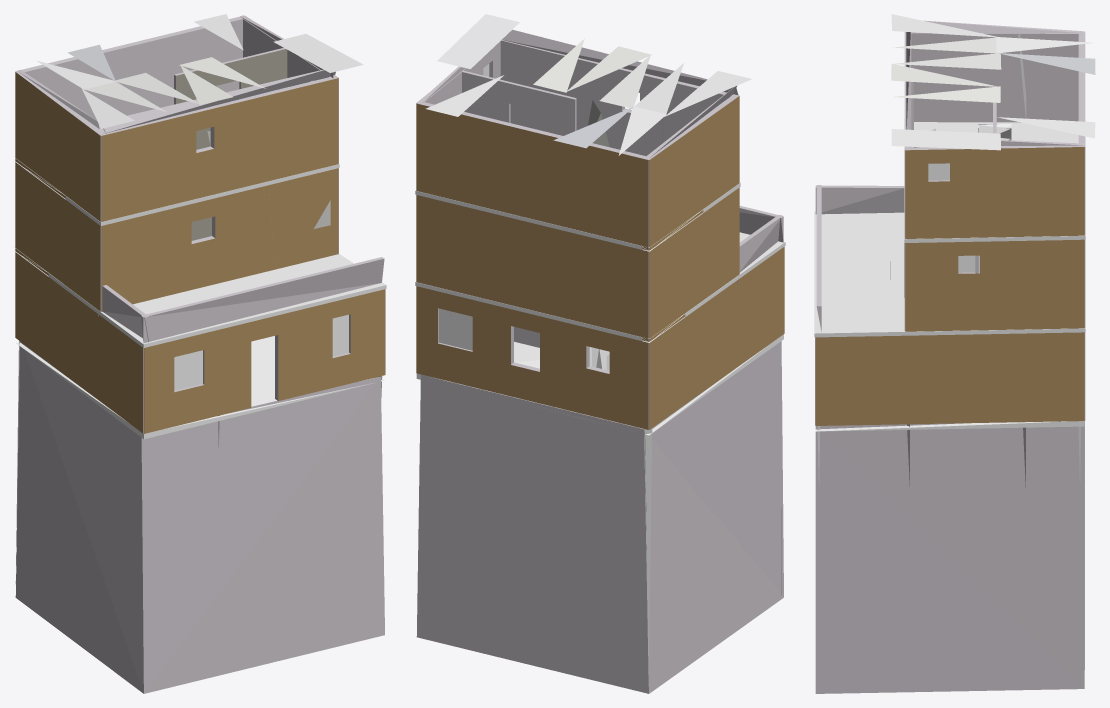
3 renders of one model, left to right at view 1: azimuth 30°, elevation 25°; view 2: azimuth 150°, elevation 25°; view 3: azimuth 270°, elevation 25°, orthographic. The views are drawn at different scales.
Parts seen in each view (by area): view 1: F_27; view 2: F_27; view 3: F_27.
Part boxes in pixels (box(x1,y1,x2,y2)): F_27: box(14, 14, 386, 693); F_27: box(415, 14, 785, 693); F_27: box(814, 14, 1095, 693).
Size of the model in its own units: 8.71 by 17.1 by 7.83.
